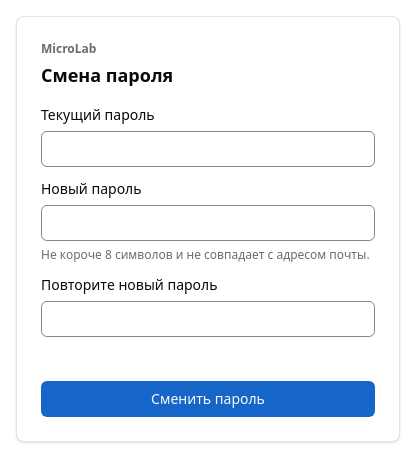
Scenario: AppRoutes › shows mismatched new passwords as a form error
In the password field labelled "Текущий пароль": (208, 149) [41,131,375,167], type "old-password"
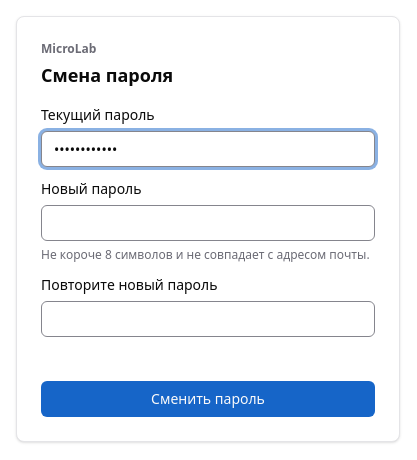
In the password field labelled "Новый пароль": (208, 223) [41,205,375,241], type "new-password-1"
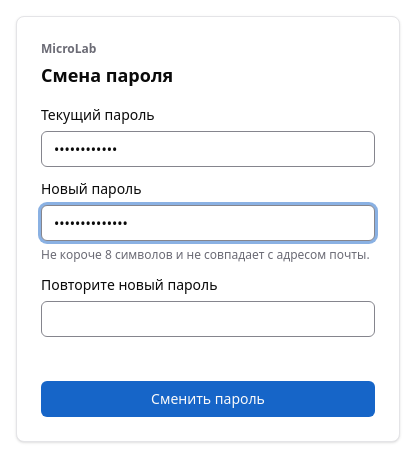
In the password field labelled "Повторите новый пароль": (208, 319) [41,301,375,337], type "new-password-2"
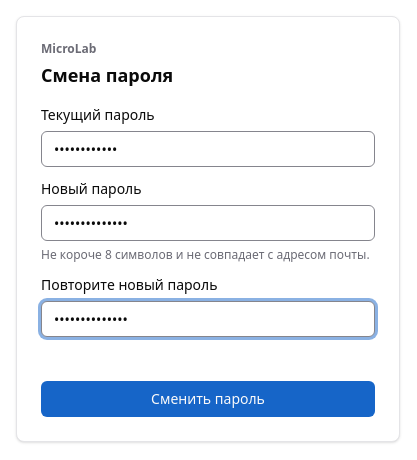
Click the button "Сменить пароль": (208, 399) [41,381,375,417]
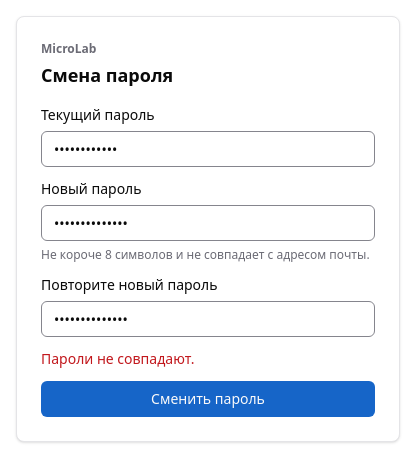
Expected: the message reads "Пароли не совпадают.", [41,349,194,368]
